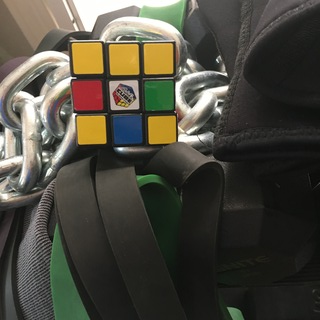face: (69, 39, 179, 146)
